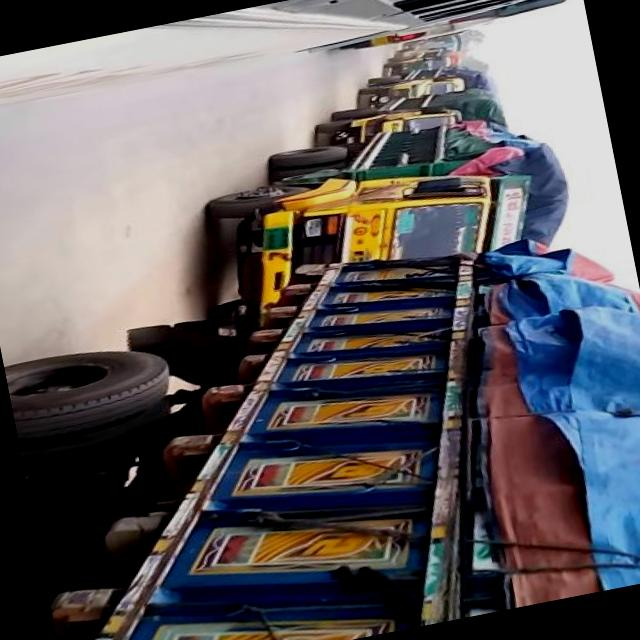bus: (0, 0, 582, 119)
truck: (3, 202, 640, 640), (200, 96, 582, 314), (311, 78, 508, 148), (358, 54, 496, 108), (380, 41, 461, 78)
